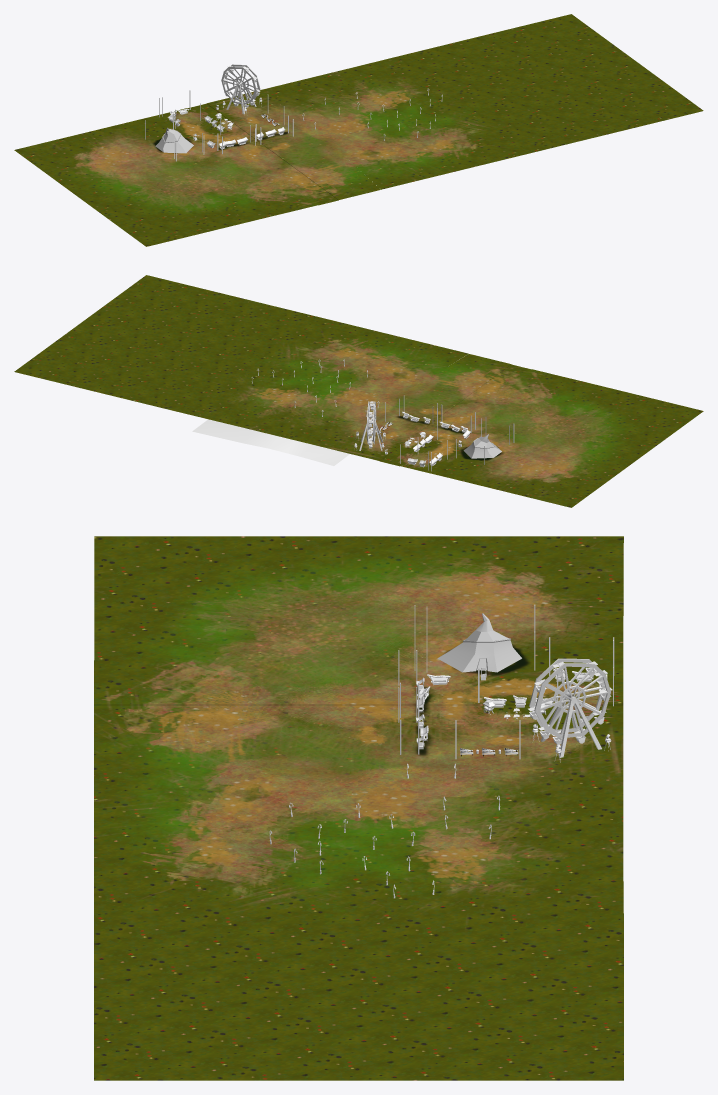
The model's file is Light test 4.fbx.
The picture shows the model from 3 angles, top to bottom: view 1: azimuth 30°, elevation 25°; view 2: azimuth 150°, elevation 25°; view 3: azimuth 270°, elevation 25°; orthographic projection. The views are drawn at different scales.
Visible parts, largest first — view 1: carnival floor, ferriswheel003, Cylinder; view 2: carnival floor, Object130, Cylinder, ferriswheel003; view 3: carnival floor, ferriswheel003, Cylinder.
Boxes of the visible parts, <box> form: carnival floor: <box>14,14,703,246</box>; ferriswheel003: <box>221,64,260,114</box>; Cylinder: <box>155,128,193,153</box>; carnival floor: <box>14,275,703,507</box>; Object130: <box>192,419,349,465</box>; Cylinder: <box>463,434,501,458</box>; ferriswheel003: <box>359,401,382,450</box>; carnival floor: <box>94,536,623,1080</box>; ferriswheel003: <box>529,658,610,757</box>; Cylinder: <box>437,613,521,672</box>.
Bounding box in the file's own units: 46832 × 5307 × 19266.
